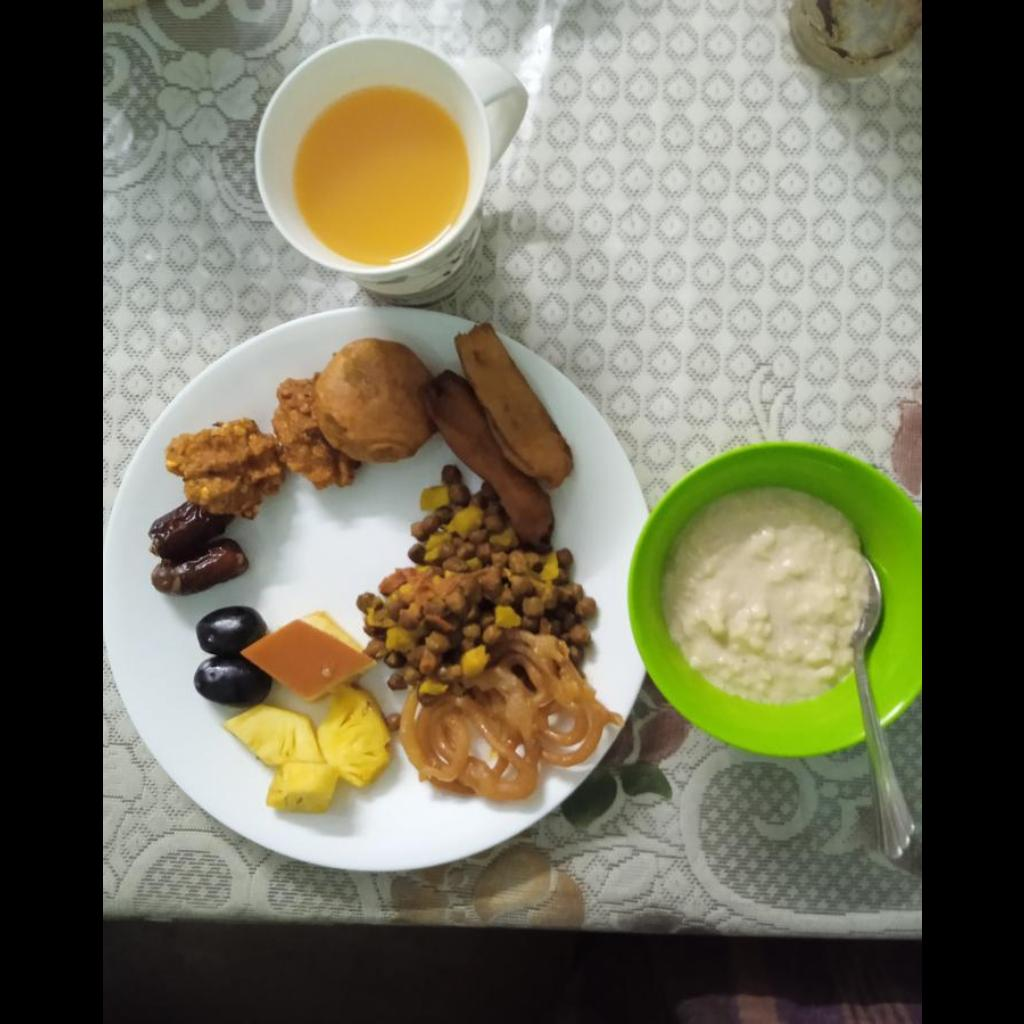beguni: (434, 329, 579, 551)
chola: (358, 469, 594, 696)
chop-alu: (319, 345, 429, 460)
dates: (193, 606, 270, 707), (154, 512, 243, 582)
jilapi: (397, 658, 618, 799)
juice: (296, 91, 472, 259)
payesh: (653, 489, 852, 702)
peyaju: (167, 373, 352, 523)
pineapple: (227, 685, 388, 810)
sweets: (242, 612, 373, 700)
